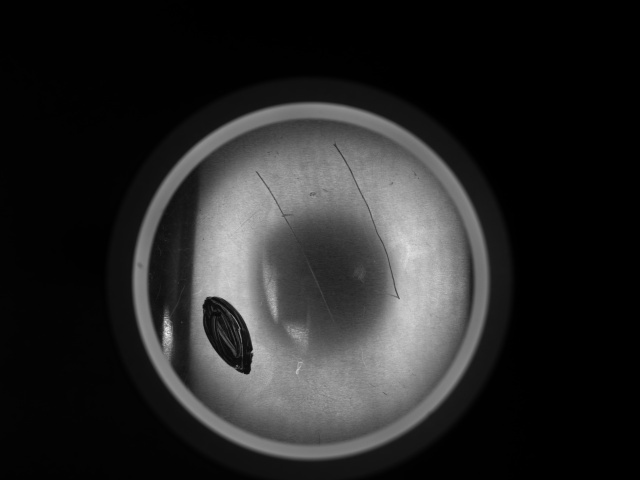ca_shang: (253, 168, 340, 331), (333, 139, 404, 302)
zang_wu: (202, 293, 254, 376)
